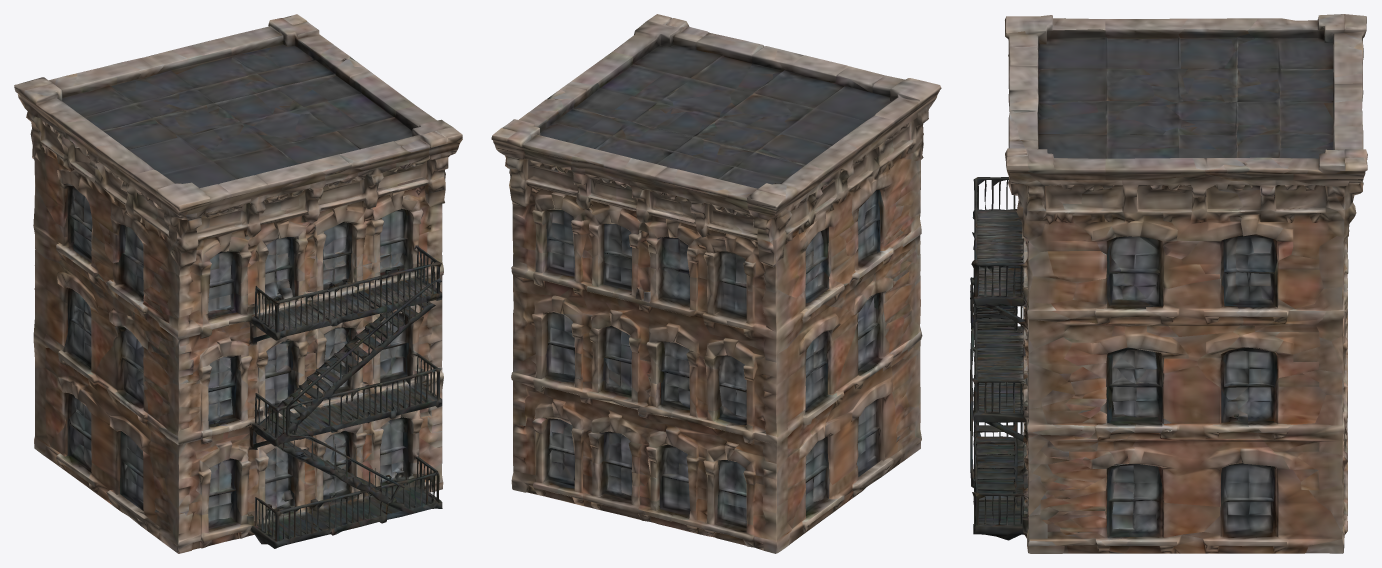
Rendered from building-crown.glb.
The picture shows the model from 3 angles, left to right: view 1: azimuth 30°, elevation 25°; view 2: azimuth 150°, elevation 25°; view 3: azimuth 270°, elevation 25°; orthographic projection. The views are drawn at different scales.
Parts seen in each view (by area): view 1: SM_building_crown; view 2: SM_building_crown; view 3: SM_building_crown.
Part boxes in pixels (left/top/right/bottom): SM_building_crown: left=14, top=14, right=462, bottom=553; SM_building_crown: left=491, top=14, right=941, bottom=553; SM_building_crown: left=970, top=14, right=1367, bottom=553.
Bounding box in the file's own units: 0.8085 × 0.9808 × 0.8936.
Materials: 1 (1 with a texture image).
